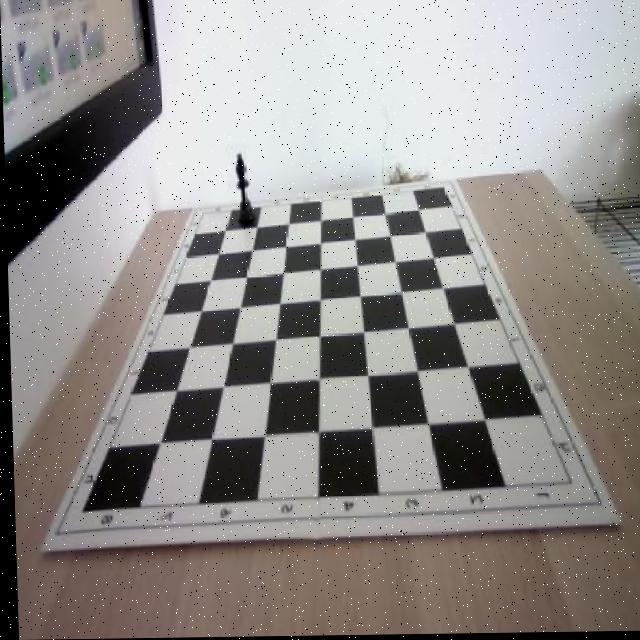bishop: (235, 151, 256, 226)
